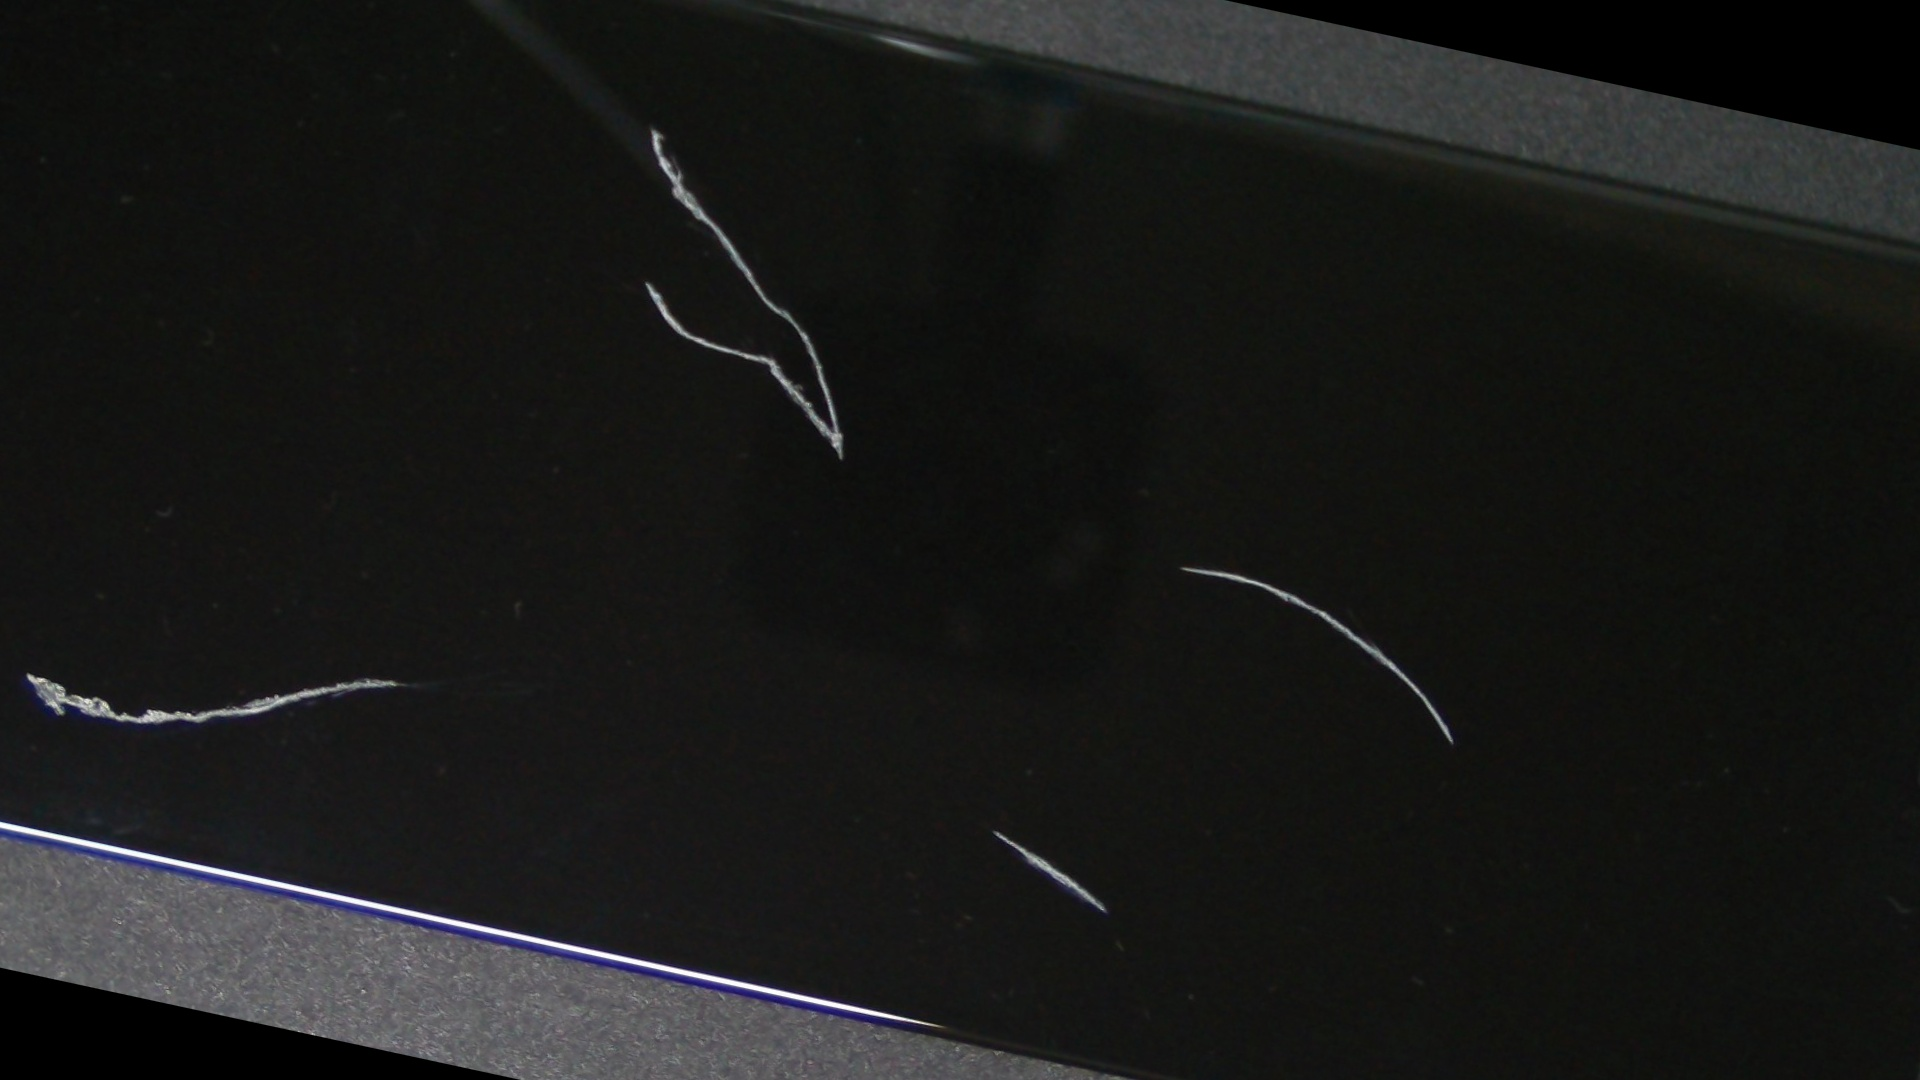oil: (467, 146, 1920, 993), (306, 276, 1696, 1080), (3, 200, 783, 1080), (249, 0, 1058, 330)
